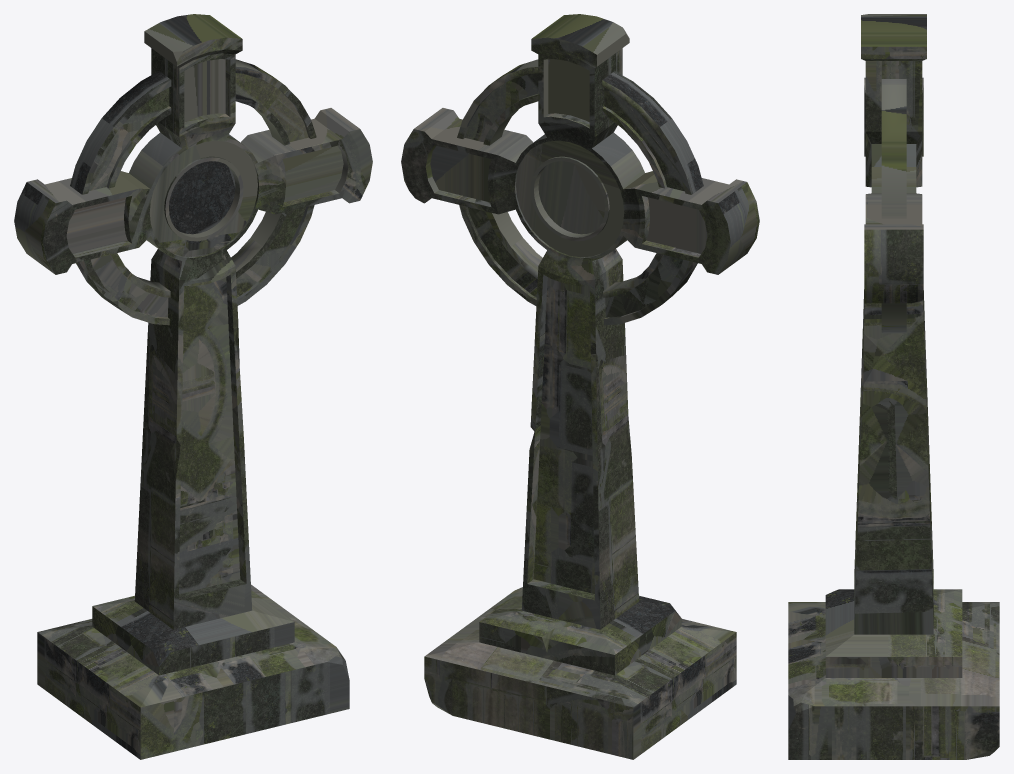
Rendered from gravestone_03.fbx.
The picture shows the model from 3 angles, left to right: view 1: azimuth 30°, elevation 25°; view 2: azimuth 150°, elevation 25°; view 3: azimuth 270°, elevation 25°; orthographic projection. The views are drawn at different scales.
Visible parts, largest first — view 1: grave_stone_03.001; view 2: grave_stone_03.001; view 3: grave_stone_03.001.
Part boxes in pixels (x1,y1,x2,y2): grave_stone_03.001: (14, 14, 372, 759); grave_stone_03.001: (401, 14, 759, 759); grave_stone_03.001: (788, 14, 999, 759).
Size of the model in its own units: 77.92 by 151 by 42.19.
1 material, 1 textured.
